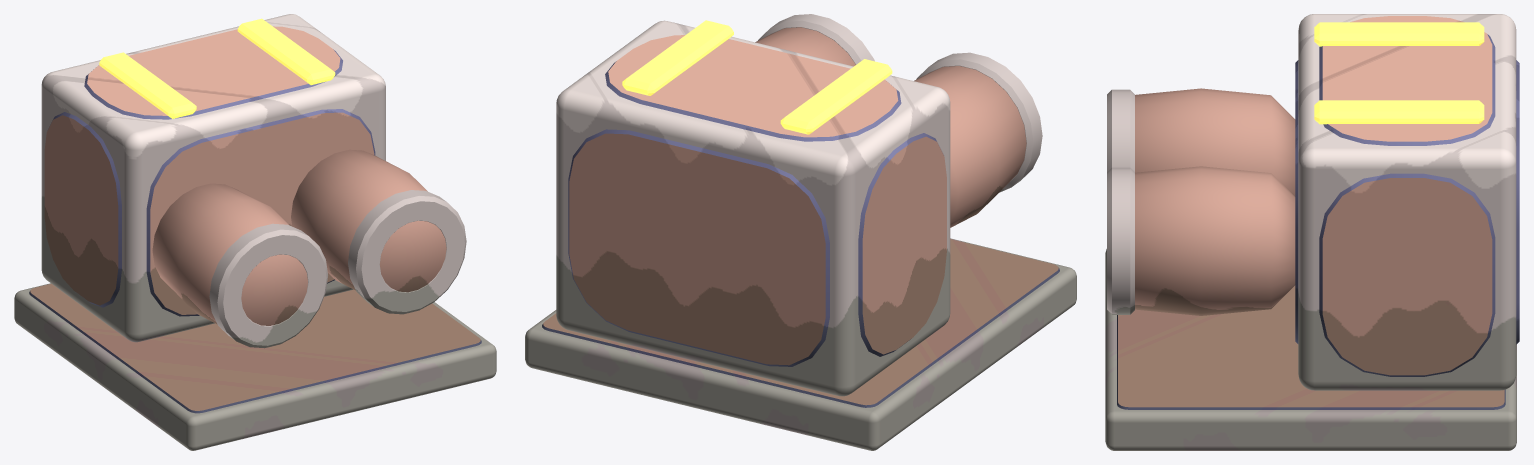
File: R4X_DoubleShotPassive.glb
3 renders of one model, left to right at view 1: azimuth 30°, elevation 25°; view 2: azimuth 150°, elevation 25°; view 3: azimuth 270°, elevation 25°, orthographic. The views are drawn at different scales.
Visible parts, largest first — view 1: R4X_DoubleShotPassive_Body; view 2: R4X_DoubleShotPassive_Body; view 3: R4X_DoubleShotPassive_Body.
Part boxes in pixels (bbox=[...]): R4X_DoubleShotPassive_Body: bbox=[14, 14, 496, 450]; R4X_DoubleShotPassive_Body: bbox=[525, 14, 1076, 450]; R4X_DoubleShotPassive_Body: bbox=[1105, 14, 1519, 450].
Size of the model in its own units: 0.514 by 0.4163 by 0.517.
Materials: 4 (3 with a texture image).
